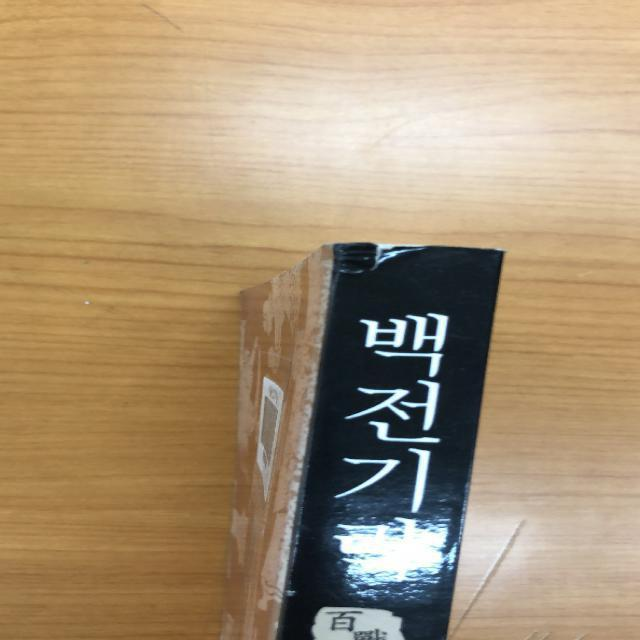Ripped: (299, 234, 444, 286)
Wornout: (459, 237, 517, 268)
